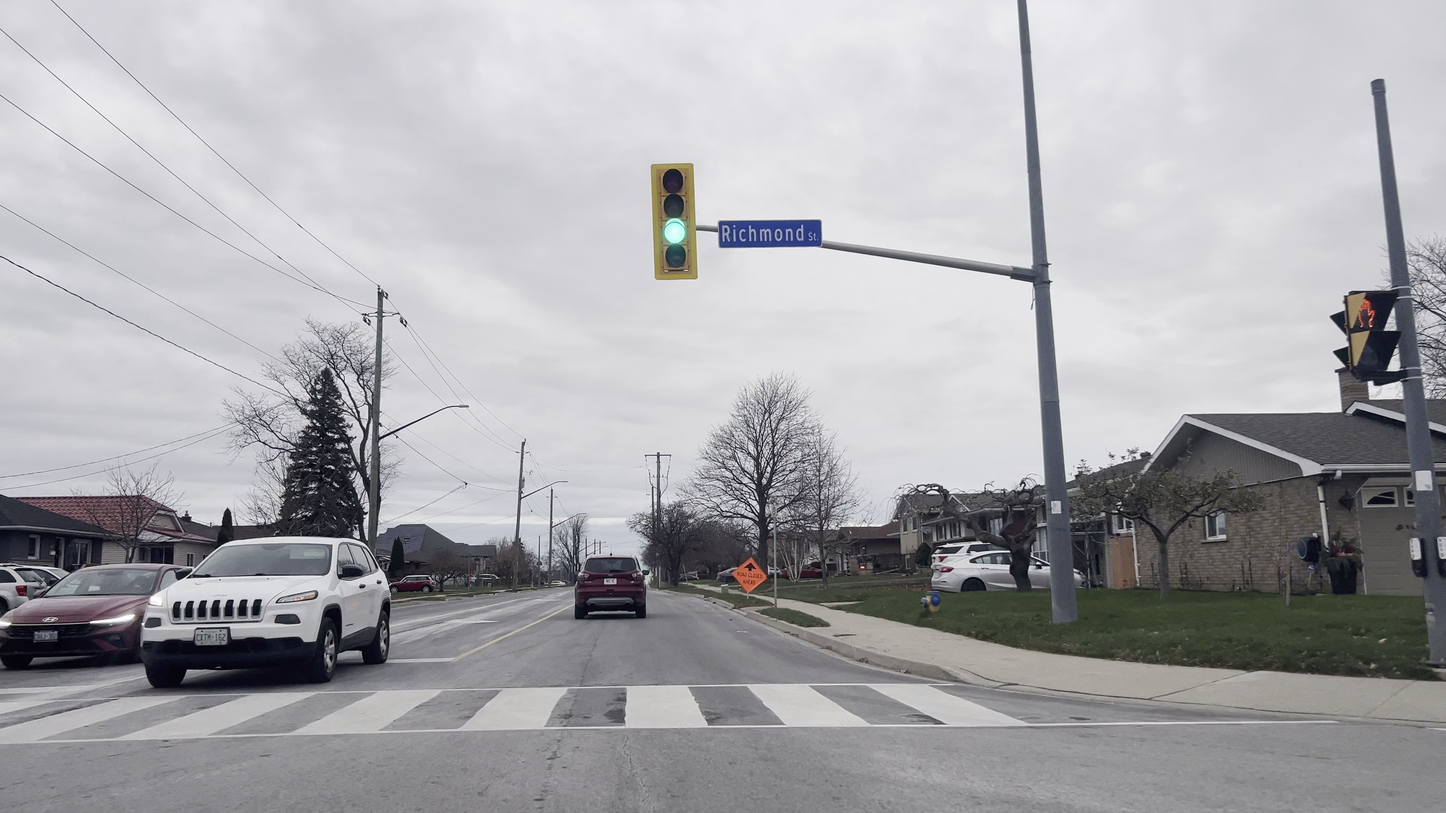construction: (720, 539, 776, 614)
